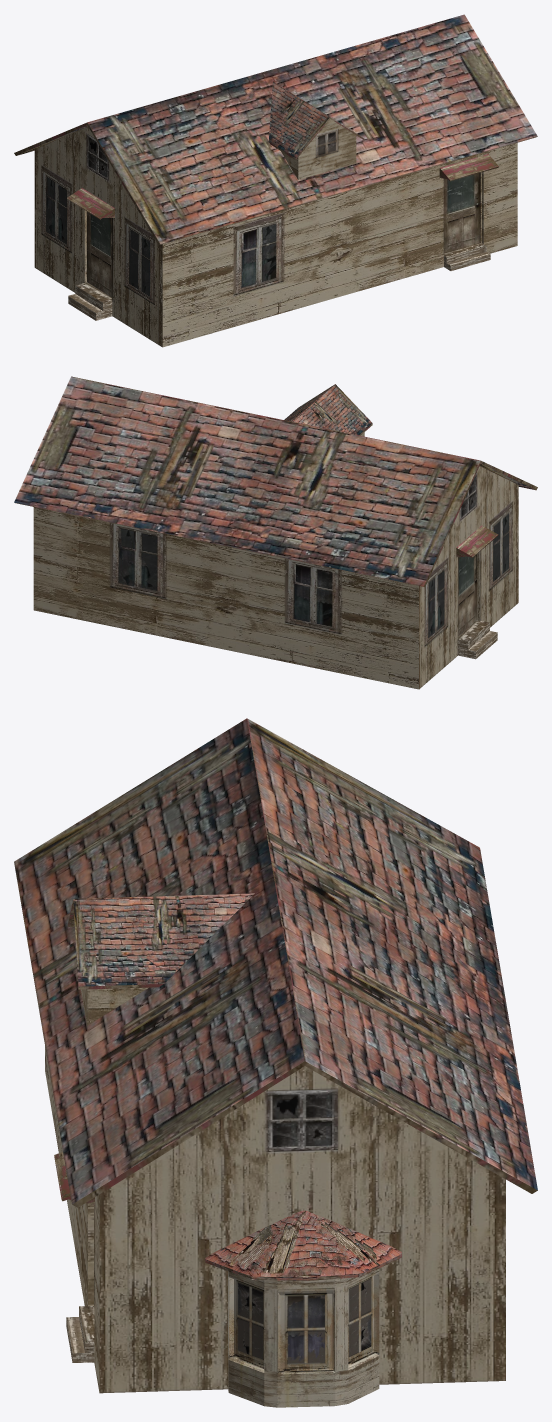
File: cottage_obj.mtl.obj
The picture shows the model from 3 angles, top to bottom: view 1: azimuth 30°, elevation 25°; view 2: azimuth 150°, elevation 25°; view 3: azimuth 270°, elevation 25°; orthographic projection. The views are drawn at different scales.
Parts seen in each view (by area): view 1: Cube_Cube.002; view 2: Cube_Cube.002; view 3: Cube_Cube.002.
Boxes of the visible parts, x1,y1,x2,y2 form: Cube_Cube.002: [14, 14, 537, 347]; Cube_Cube.002: [14, 376, 537, 689]; Cube_Cube.002: [14, 718, 537, 1407].
Bounding box in the file's own units: 33.93 × 14.67 × 20.74.
